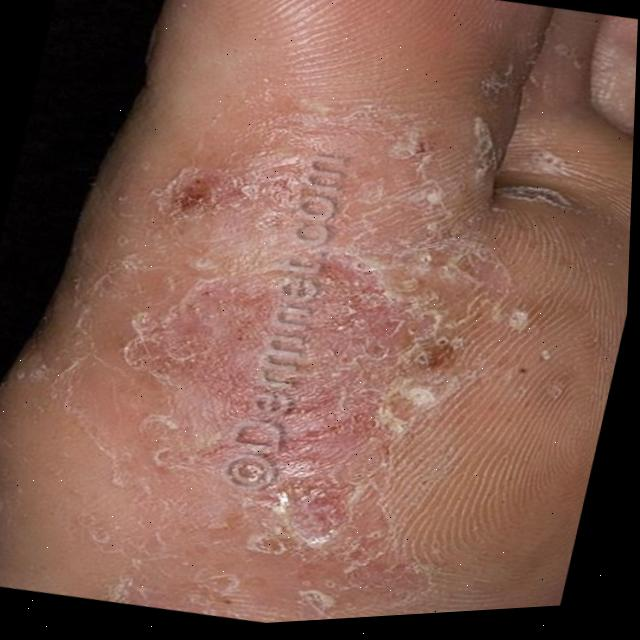Eczema: (19, 24, 621, 637)
